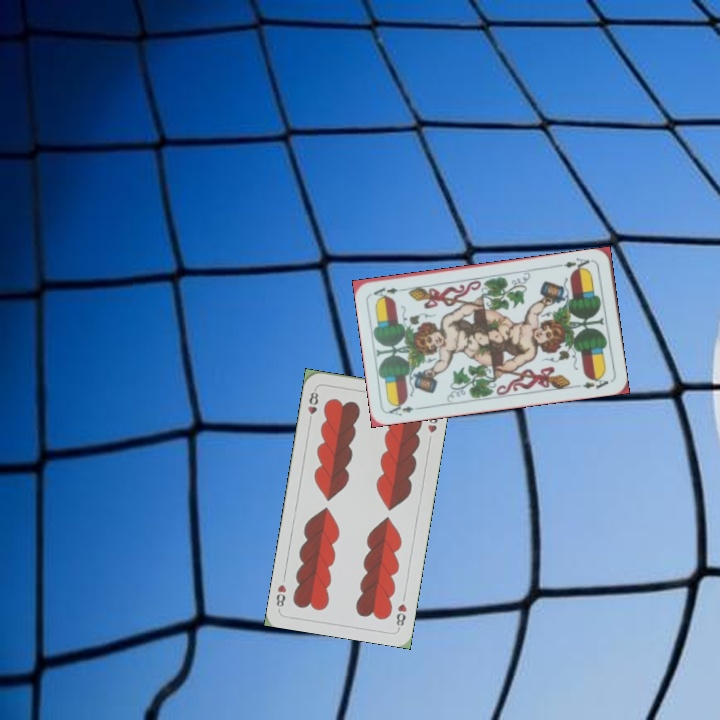EA: (555, 254, 596, 274), (385, 399, 425, 418)
H8: (304, 385, 321, 425), (392, 600, 409, 631)
